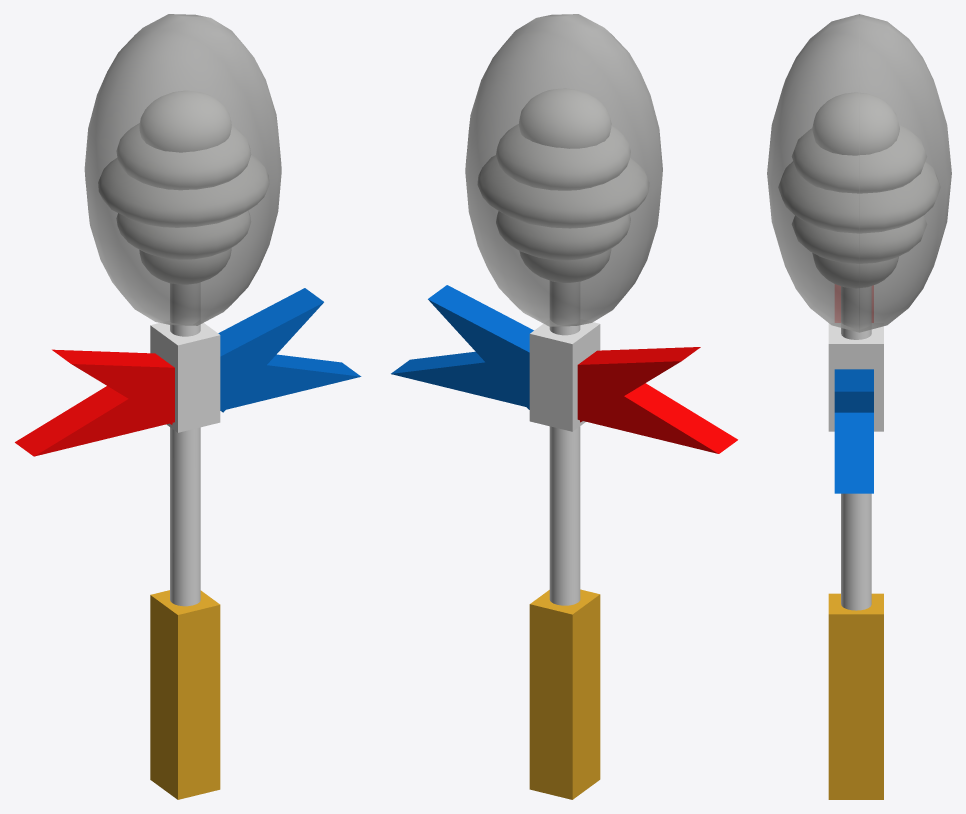
The model's file is PorcelainDipper.obj.
The picture shows the model from 3 angles, left to right: view 1: azimuth 30°, elevation 25°; view 2: azimuth 150°, elevation 25°; view 3: azimuth 270°, elevation 25°; orthographic projection.
Visible parts, largest first — view 1: PorcelainDipper; view 2: PorcelainDipper; view 3: PorcelainDipper.
Boxes of the visible parts, left/top/right/bottom form: PorcelainDipper: left=15, top=14, right=361, bottom=799; PorcelainDipper: left=391, top=14, right=737, bottom=799; PorcelainDipper: left=767, top=14, right=951, bottom=799.
Bounding box in the file's own units: 0.6157 × 1.38 × 0.3.
